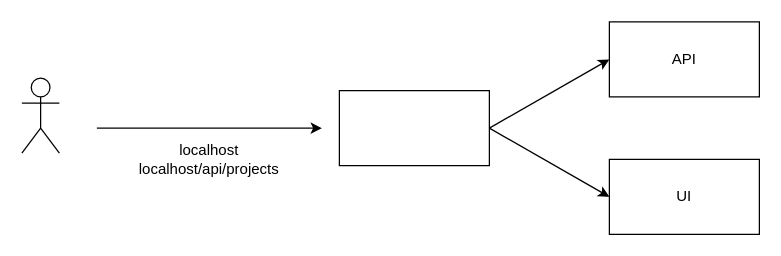
The diagram is 781 pixels wide and 256 high, and some of its shapes have lost their labels. Each missing label, with the centre of its shape:
Actor: pixel 40 115
Nginx: pixel 413 127
